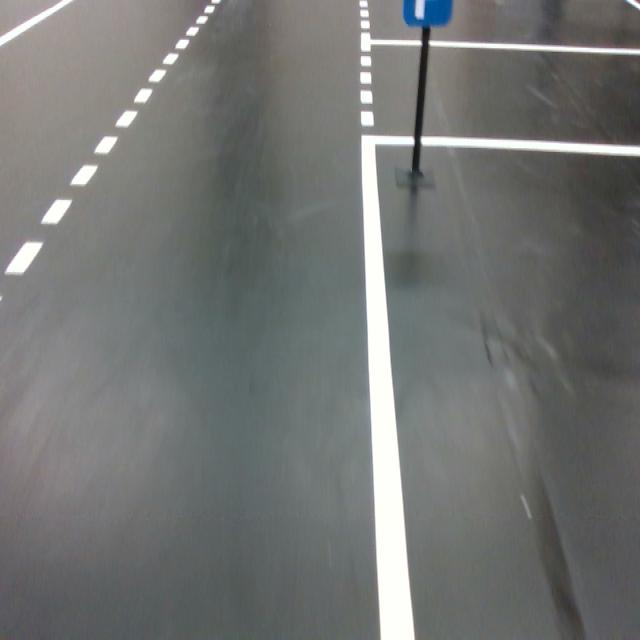parking-sign: (402, 0, 452, 27)
